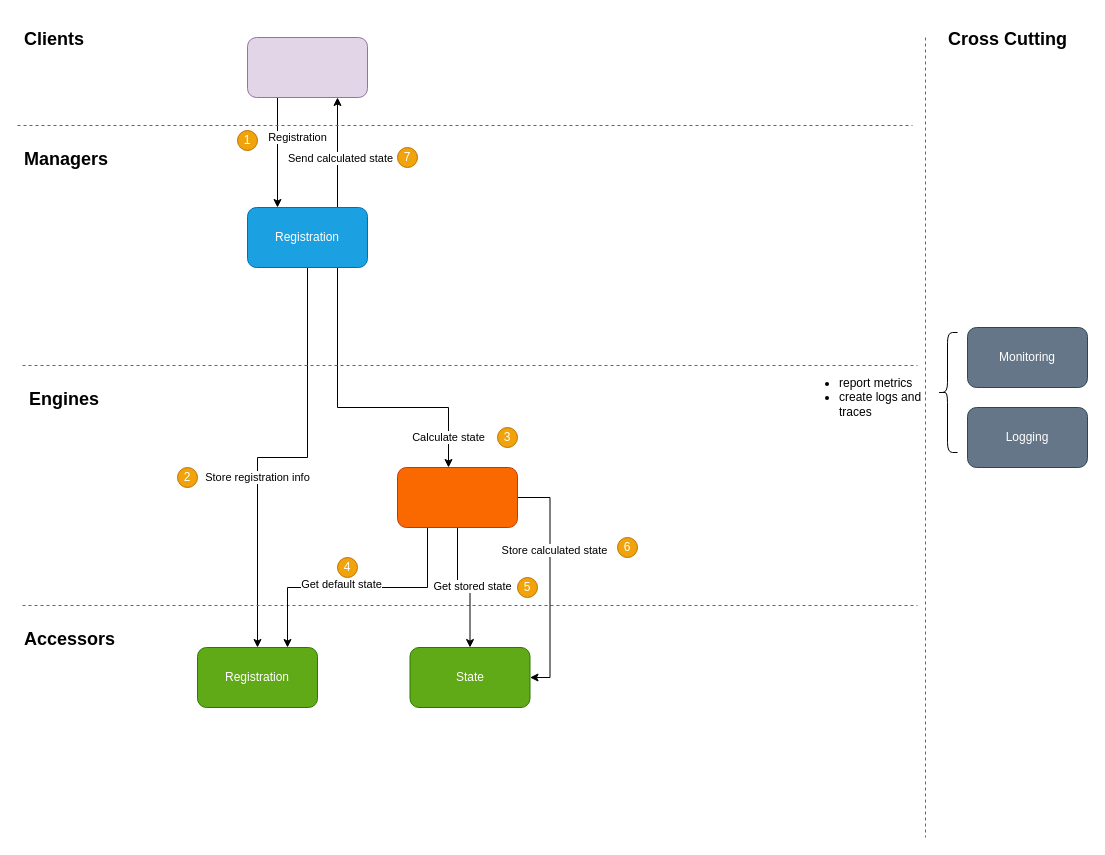
Image size: 1105x855. Some labels were removed from this diagram. The centre of each missing label's shape, as x and y in pixels:
"Desired state" goes at (457,497).
"IoT Device" goes at (307,67).
